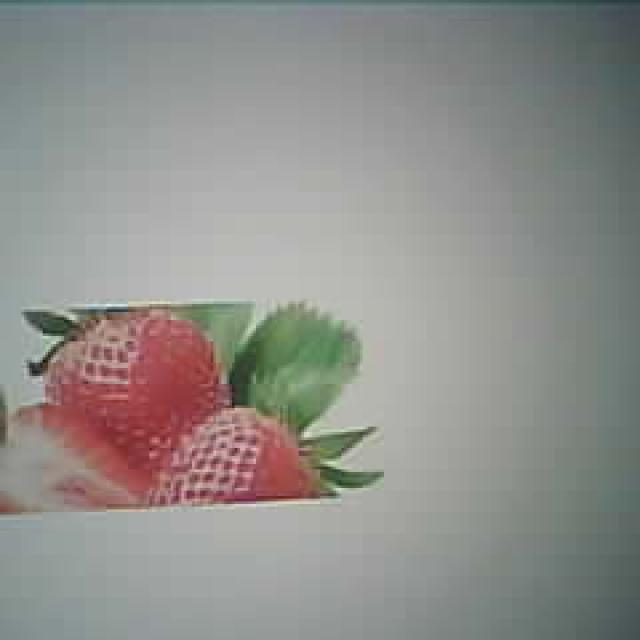strawberry: (42, 313, 216, 453), (150, 408, 304, 506)
